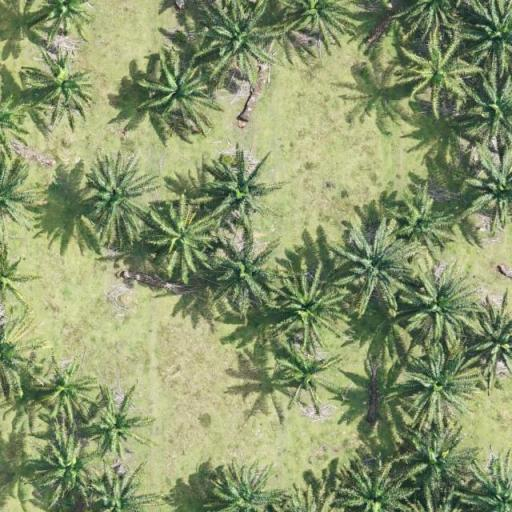Ganoderma: (35, 63, 90, 112), (410, 48, 462, 96), (96, 408, 138, 446), (48, 370, 87, 408)
